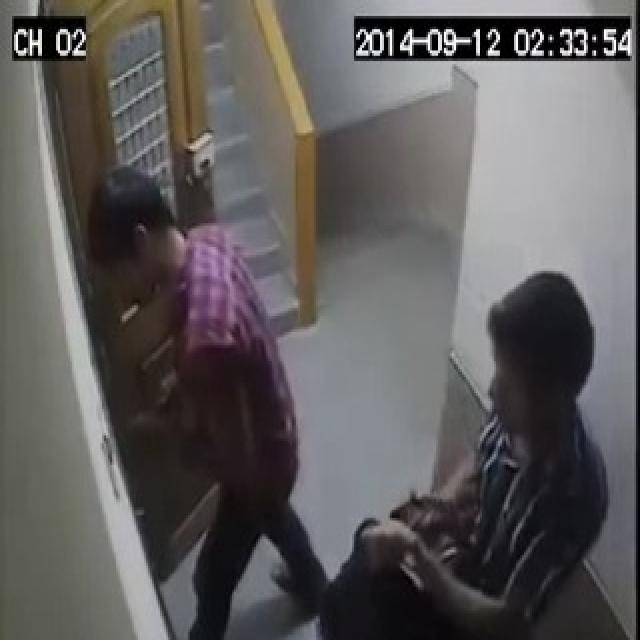burglary: (52, 194, 238, 532)
